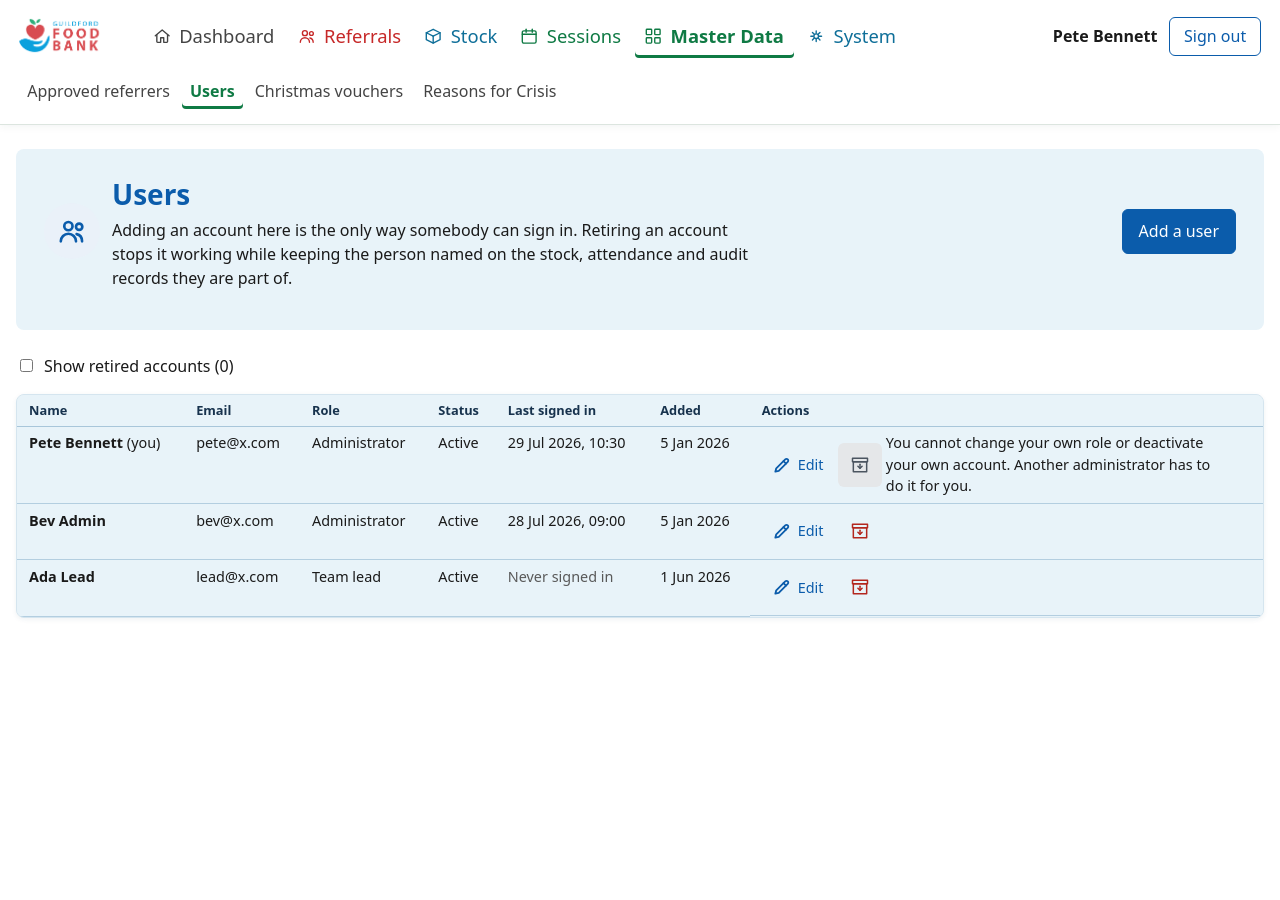
it: the users list › shows the server’s message when the last active admin cannot be deactivated
The image size is (1280, 900).
Step 1. Click the button named "Deactivate Bev Admin" → (860, 531), box [838,509,882,553]
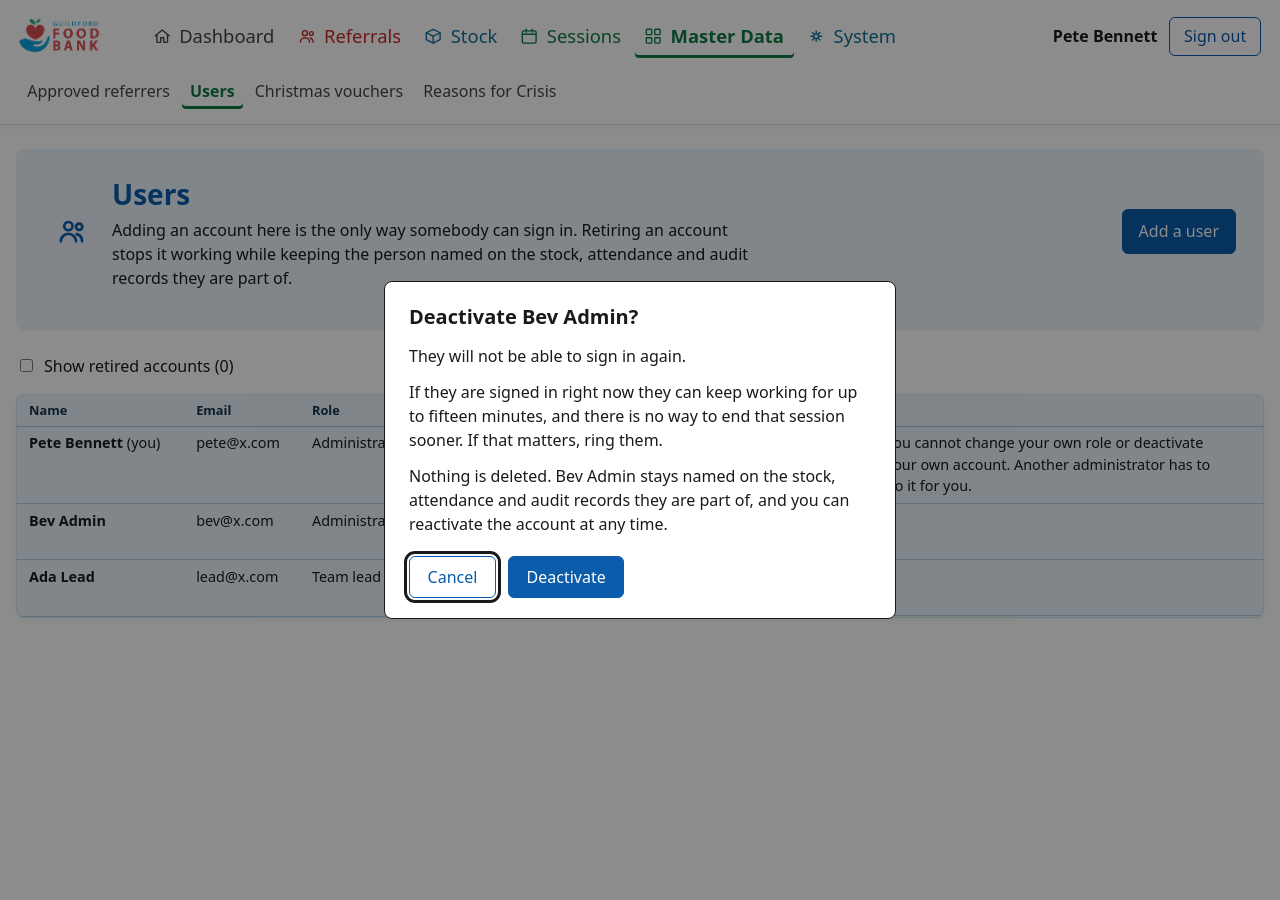
Step 2. Click the button "Deactivate" → (566, 577), box [508,556,624,598]
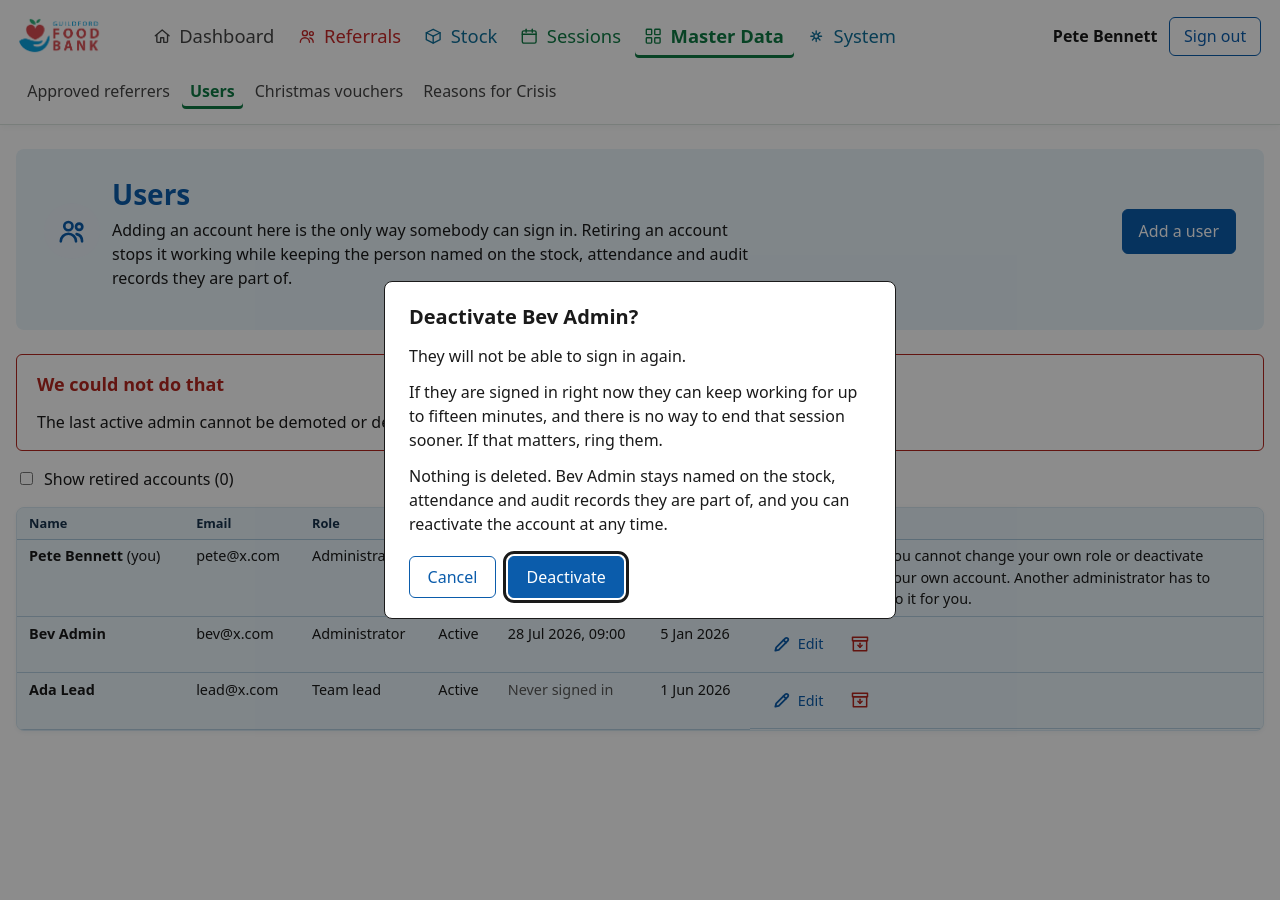
Expected: the message shows "The last active admin cannot be demoted or deactivated", [37,411,458,433]
